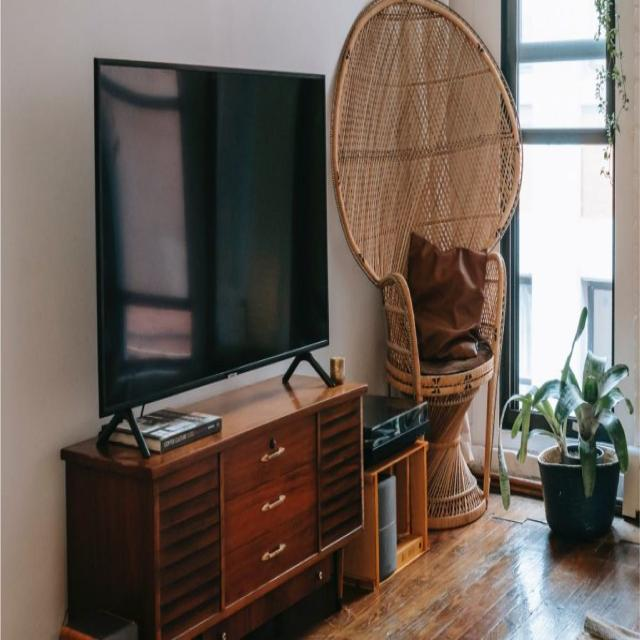electronics: (95, 59, 328, 414), (344, 437, 428, 589), (362, 395, 428, 467), (362, 396, 428, 465), (136, 410, 221, 452), (375, 476, 397, 580), (59, 610, 138, 638), (281, 351, 341, 386), (378, 474, 397, 580), (110, 422, 138, 446), (329, 355, 344, 383)
